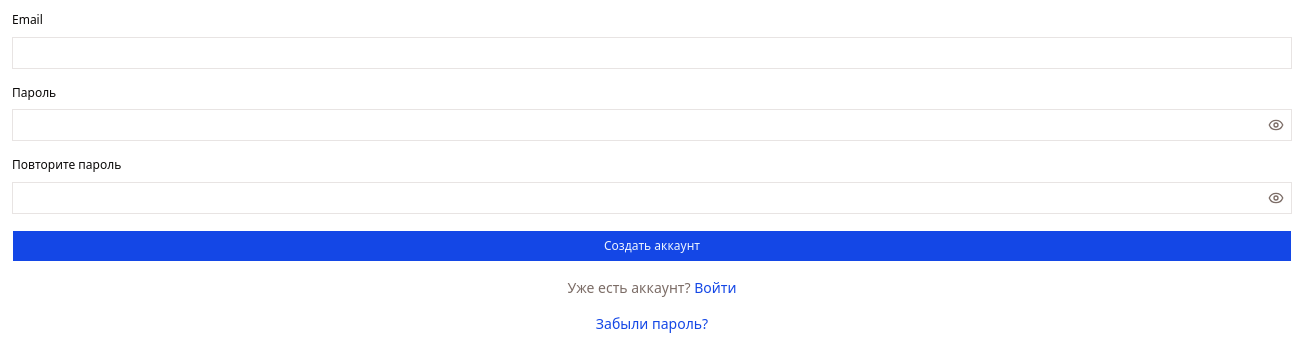
it: RegisterForm › sends only backend fields and shows generic success
The width and height of the screenshot is (1304, 350).
Type "person@example.com" into the field labelled "Email" at point(652, 52), box [12, 36, 1292, 68]
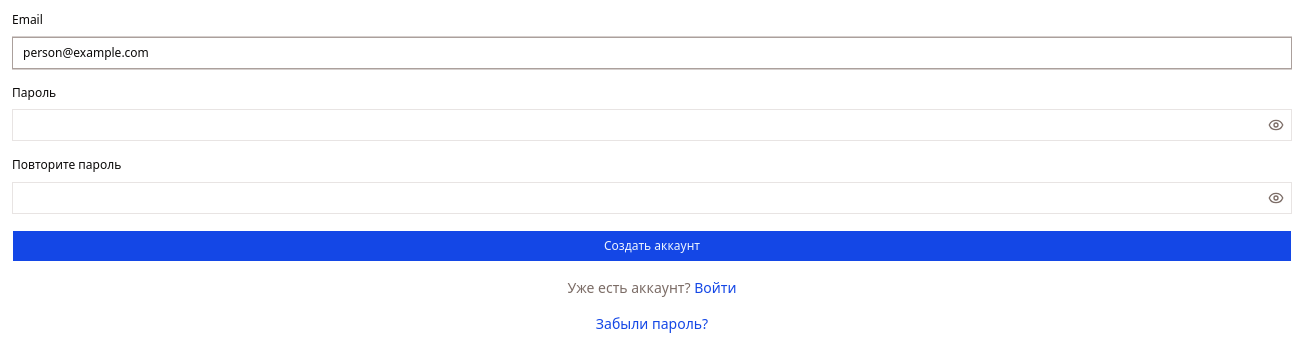
Type "long password" into the password field labelled "Пароль" at point(638, 125), box [13, 109, 1264, 141]
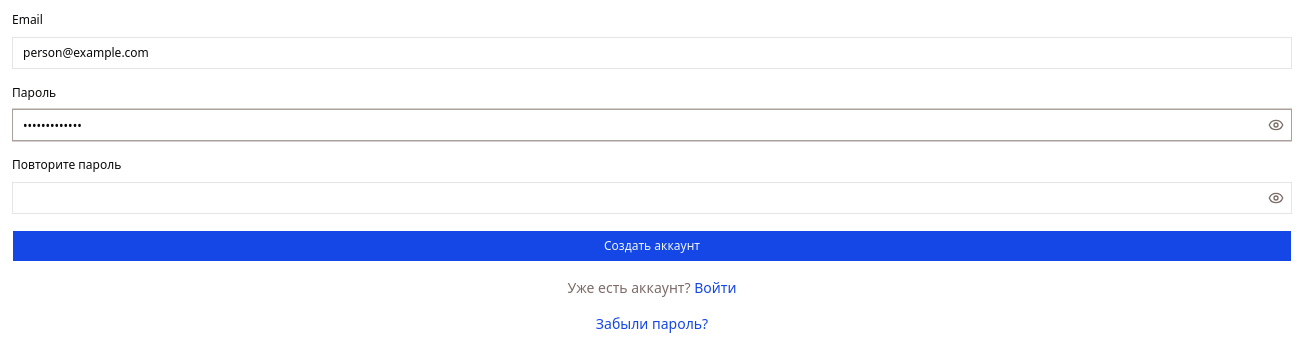
Type "long password" into the password field labelled "Повторите пароль" at point(638, 198), box [13, 182, 1264, 214]
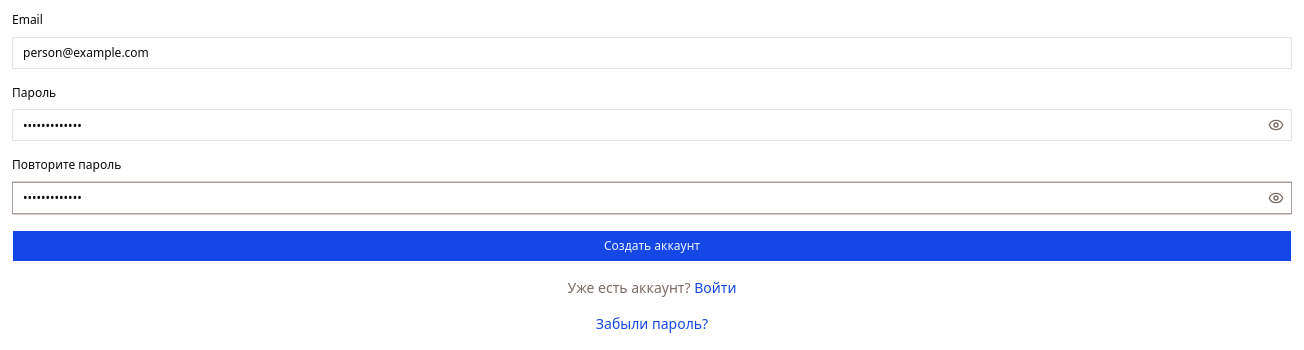
Click the button named "Создать аккаунт" at point(652, 246), box [12, 230, 1292, 262]
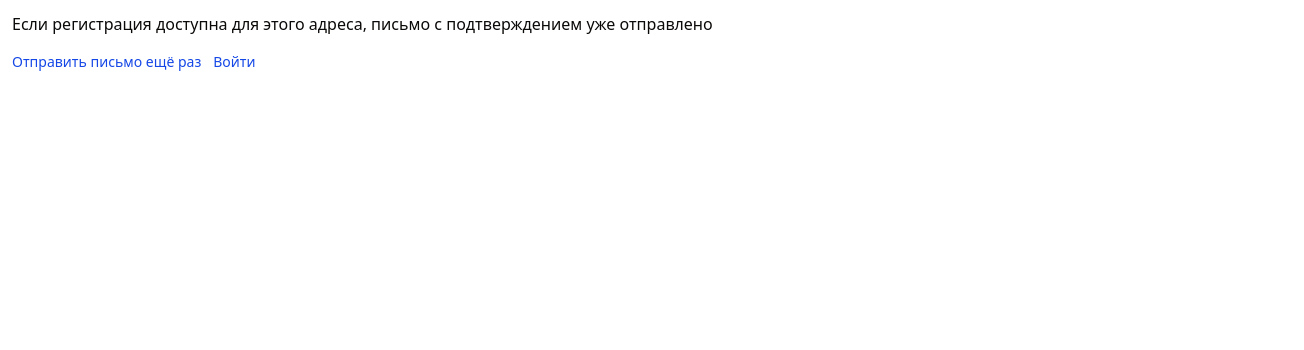
Now the text "Если регистрация доступна для этого адреса, письмо с подтверждением уже отправлено" is shown, box [12, 13, 713, 35]
Now the label labelled "Пароль" is gone
